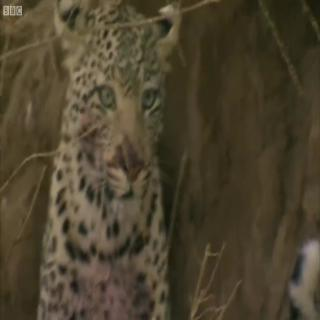Leopard: (53, 0, 208, 320)
